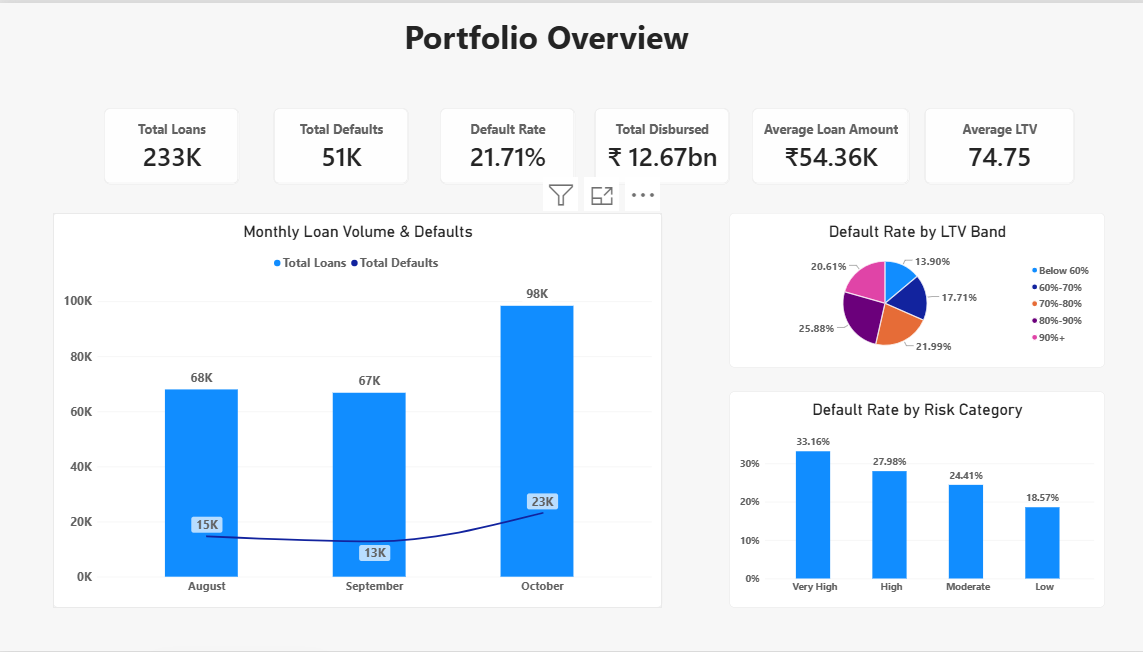

Layout of this report page (visuals, bound fields, positions):
{"tool":"powerbi","page":{"name":"Portfolio Overview","canvas":[1920,1080],"ordinal":0},"visuals":[{"type":"cardVisual","fields":{"Data":["vehicle_loan_analysis.Total Loans"]},"box":[175,175,225,127.5],"z":0},{"type":"cardVisual","fields":{"Data":["vehicle_loan_analysis.Total Defaults"]},"box":[457.5,175,225,127.5],"z":1000},{"type":"cardVisual","fields":{"Data":["vehicle_loan_analysis.Default Rate"]},"box":[735,175,225,127.5],"z":2000},{"type":"cardVisual","fields":{"Data":["vehicle_loan_analysis.Total Disbursed"]},"box":[992.5,175,225,127.5],"z":3000},{"type":"cardVisual","fields":{"Data":["vehicle_loan_analysis.Average Loan Amount"]},"box":[1255,175,262.5,127.5],"z":4000},{"type":"cardVisual","fields":{"Data":["vehicle_loan_analysis.Average LTV"]},"box":[1542.5,175,250,127.5],"z":5000},{"type":"clusteredColumnChart","title":"Default Rate by Risk Category","fields":{"Category":["vehicle_loan_analysis.Risk_Category"],"Y":["vehicle_loan_analysis.Default Rate"]},"box":[1217.5,647.5,625,360],"z":6000},{"type":"pieChart","title":"Default Rate by LTV Band","fields":{"Category":["LTV_Band_Sort.LTV_Band"],"Y":["vehicle_loan_analysis.Default Rate"]},"box":[1217.5,350,625,257.5],"z":7000},{"type":"lineClusteredColumnComboChart","title":"Monthly Loan Volume & Defaults","fields":{"Category":["vehicle_loan_analysis.DisbursalDate.Variation.Date Hierarchy.Month"],"Y":["vehicle_loan_analysis.Total Loans"],"Y2":["vehicle_loan_analysis.Total Defaults"]},"box":[90,350,1015,657.5],"z":8000},{"type":"textbox","box":[457.5,20,910,107.5],"z":9000}]}

Visuals, with their boxes in screenshot pixels (x1, y1, x2, y2), scaled from the page's 1920x1080 canvas onto the 1143x652 screenshot:
cardVisual - vehicle_loan_analysis.Total Loans: detection(104, 106, 238, 183)
cardVisual - vehicle_loan_analysis.Total Defaults: detection(272, 106, 406, 183)
cardVisual - vehicle_loan_analysis.Default Rate: detection(438, 106, 572, 183)
cardVisual - vehicle_loan_analysis.Total Disbursed: detection(591, 106, 725, 183)
cardVisual - vehicle_loan_analysis.Average Loan Amount: detection(747, 106, 903, 183)
cardVisual - vehicle_loan_analysis.Average LTV: detection(918, 106, 1067, 183)
"Default Rate by Risk Category" clusteredColumnChart: detection(725, 391, 1097, 608)
"Default Rate by LTV Band" pieChart: detection(725, 211, 1097, 367)
"Monthly Loan Volume & Defaults" lineClusteredColumnComboChart: detection(54, 211, 658, 608)
textbox: detection(272, 12, 814, 77)
